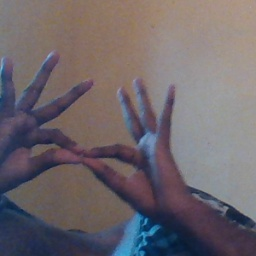B: (13, 91, 151, 207)
